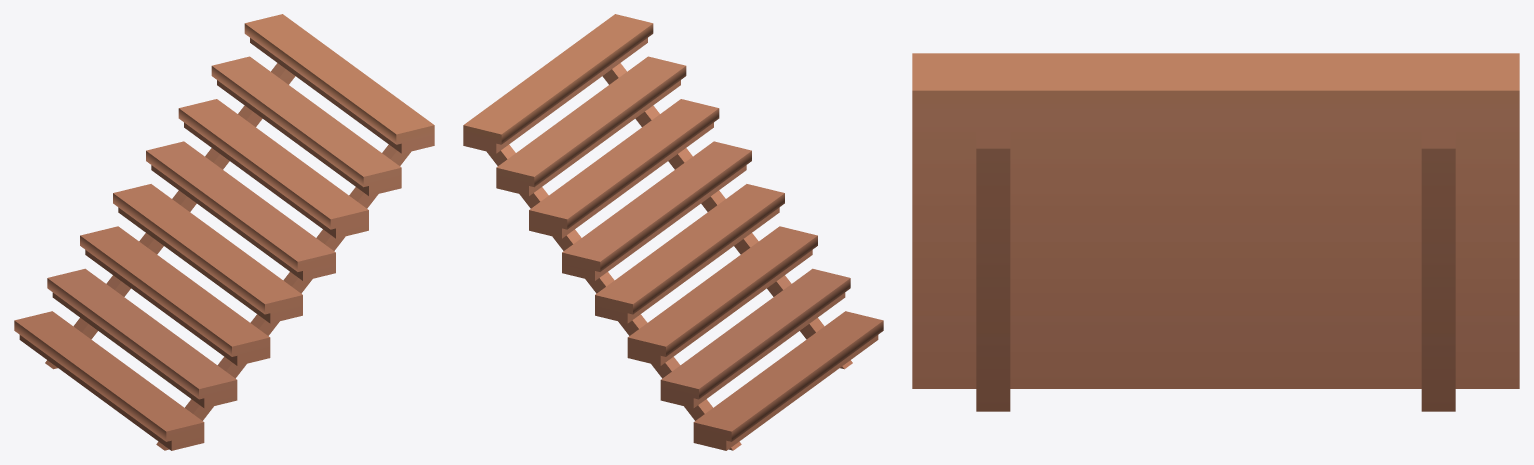
Rendered from stairs-wide-wood.glb.
The picture shows the model from 3 angles, left to right: view 1: azimuth 30°, elevation 25°; view 2: azimuth 150°, elevation 25°; view 3: azimuth 270°, elevation 25°; orthographic projection. The views are drawn at different scales.
Parts seen in each view (by area): view 1: stairs-wide-wood; view 2: stairs-wide-wood; view 3: stairs-wide-wood.
Part boxes in pixels (<box>): stairs-wide-wood: <box>14,14,434,450</box>; stairs-wide-wood: <box>463,14,883,450</box>; stairs-wide-wood: <box>912,53,1519,411</box>.
Bounding box in the file's own units: 1.02 × 1 × 1.
1 material, 1 textured.
